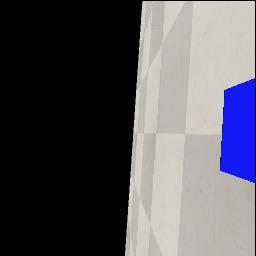box: (220, 77, 255, 182)
